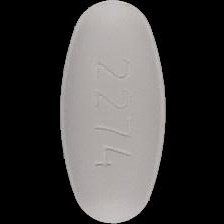0093-2274: (0, 0, 224, 224)
